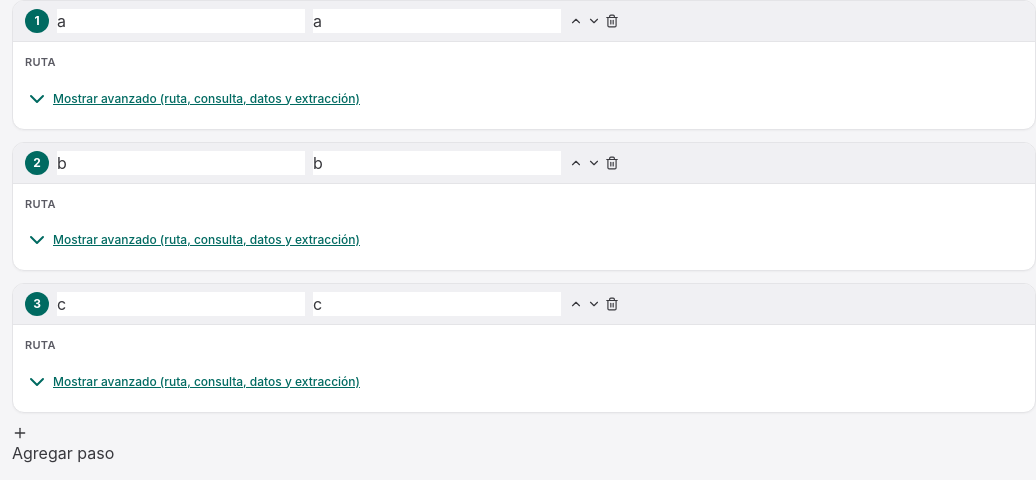
JourneySequenceTable · agregar y quitar › eliminar quita exactamente el paso pulsado
Click the 2nd button named "Eliminar paso" at (612, 162), box [605, 156, 619, 170]
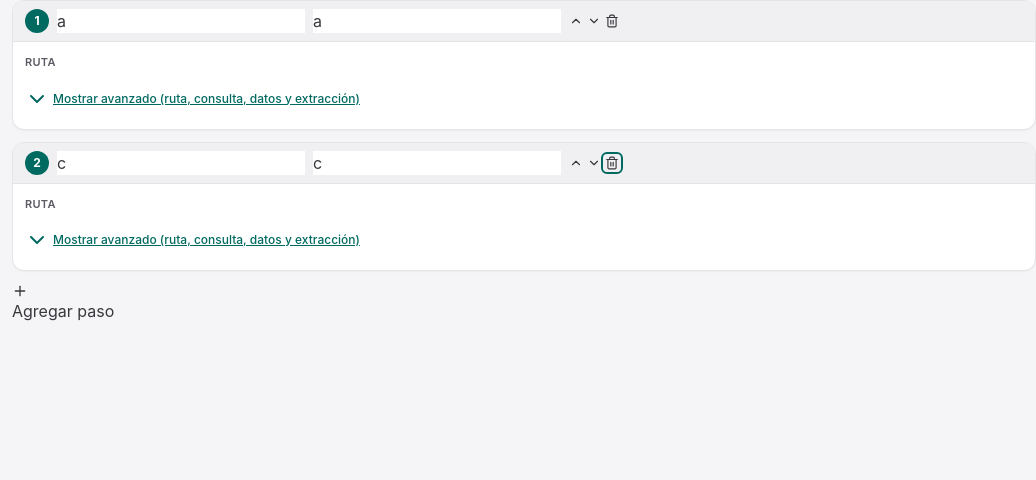
Now the number of list items is 2, box [12, 0, 1035, 130]; [12, 142, 1035, 271]
